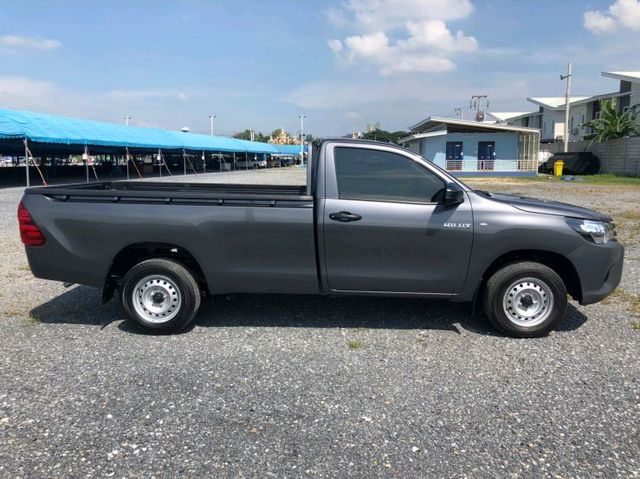pickup: (19, 134, 625, 339)
